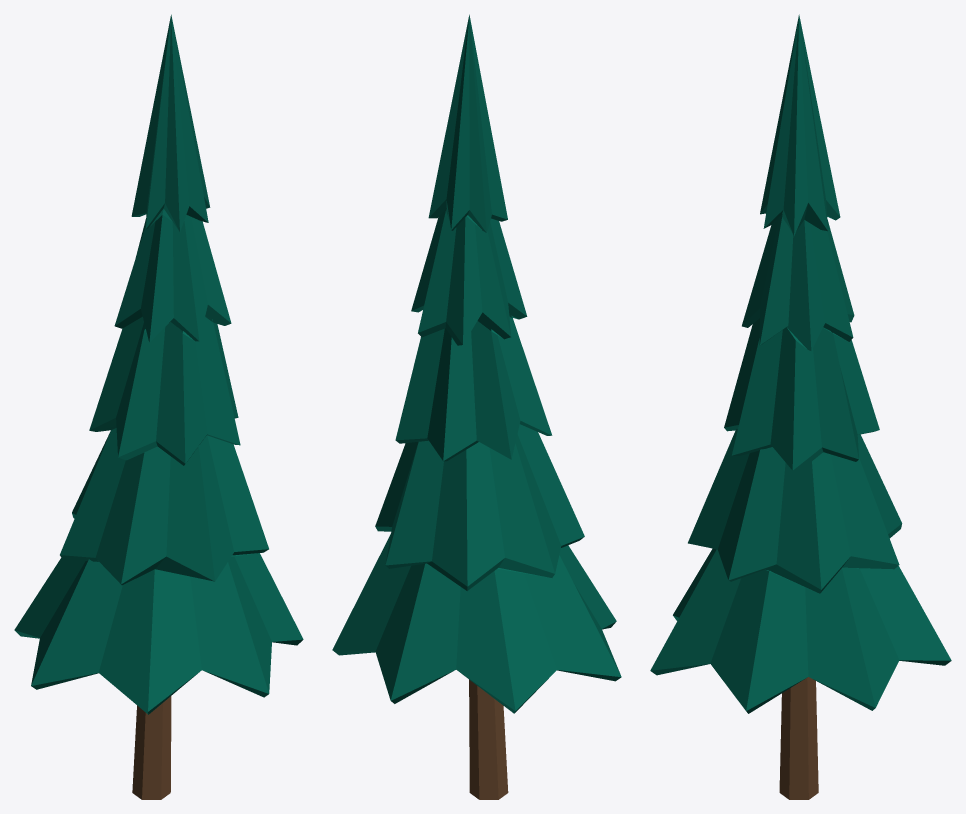
The model's file is PineTree.003.fbx.
The picture shows the model from 3 angles, left to right: view 1: azimuth 30°, elevation 25°; view 2: azimuth 150°, elevation 25°; view 3: azimuth 270°, elevation 25°; orthographic projection.
Parts seen in each view (by area): view 1: PineTree.003; view 2: PineTree.003; view 3: PineTree.003.
Part boxes in pixels (x1,y1,x2,y2): PineTree.003: (14, 14, 303, 799); PineTree.003: (332, 14, 621, 799); PineTree.003: (650, 14, 951, 799).
Size of the model in its own units: 759 by 2221 by 770.
